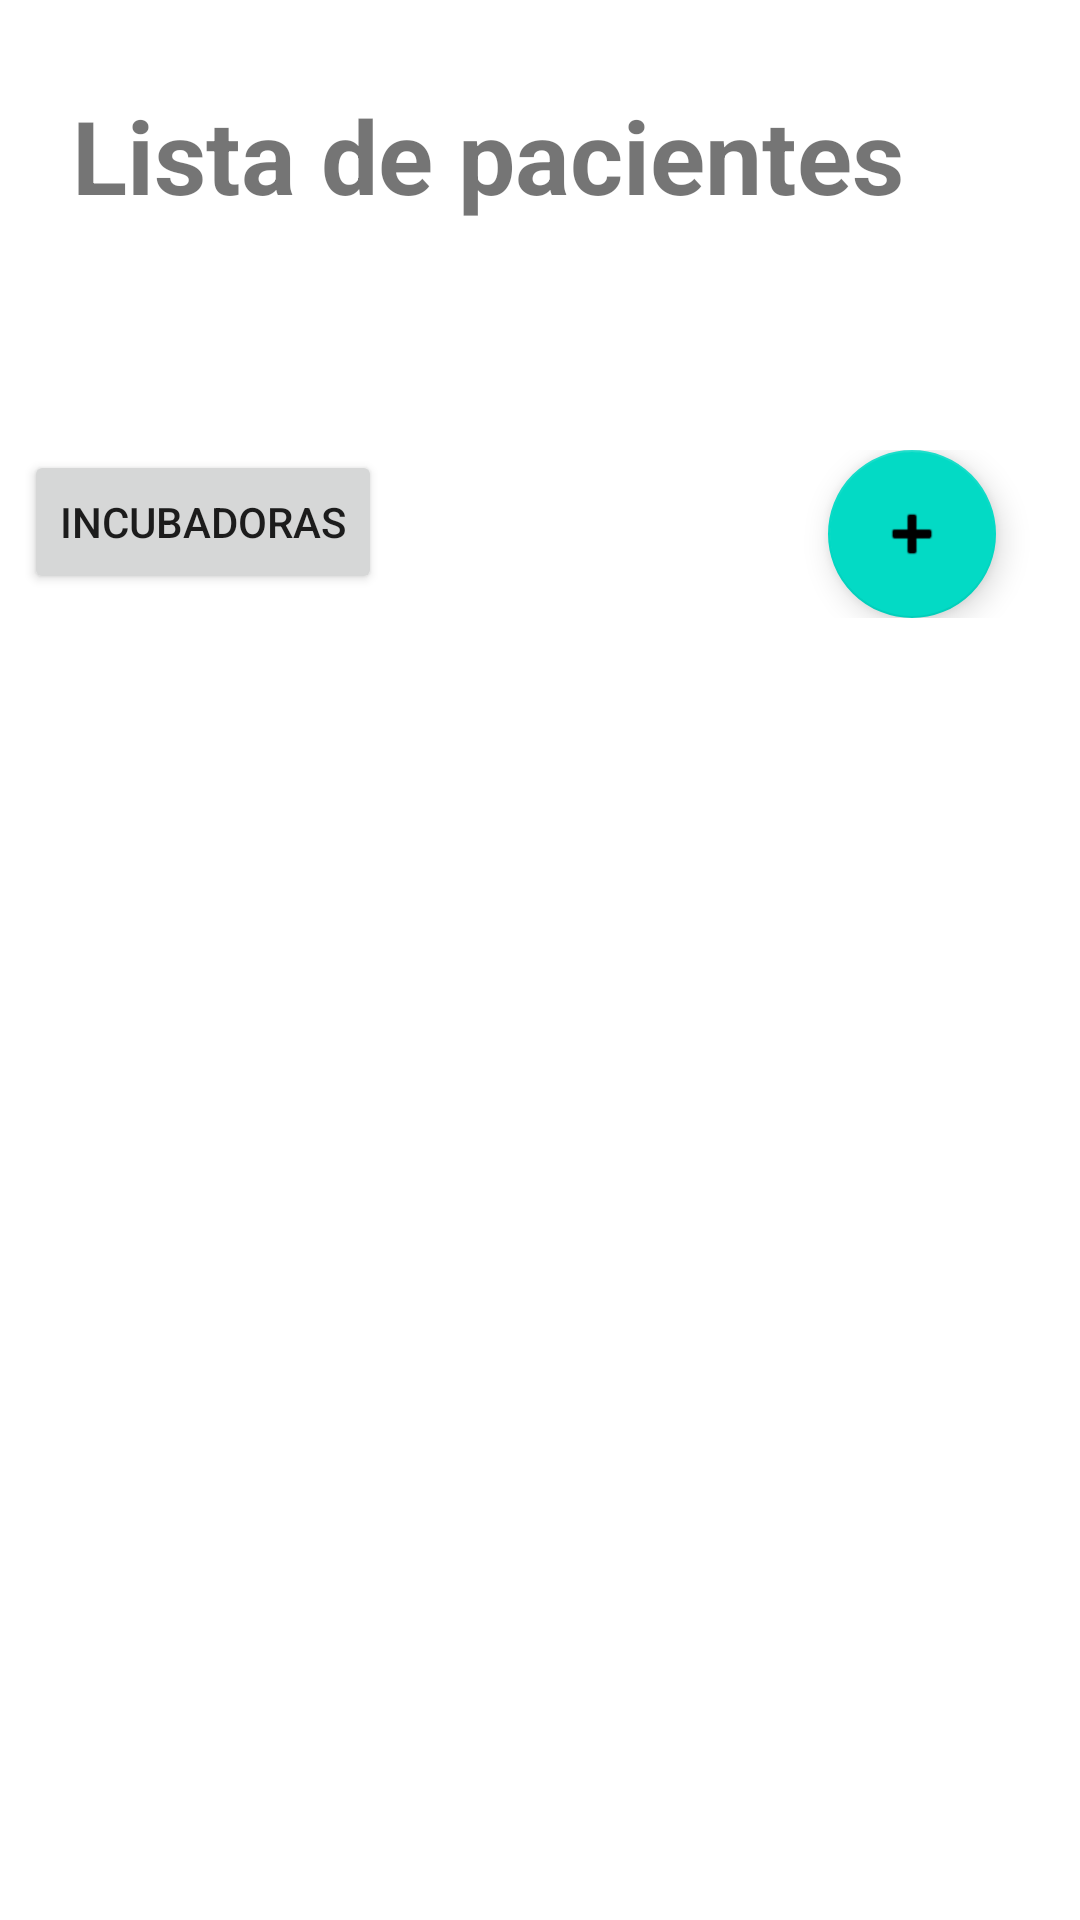

Screen size 1080w x 1920h. Icon name, then its box in pixels as (x1, y1, x2, y2):
add: (828, 450, 996, 618)
